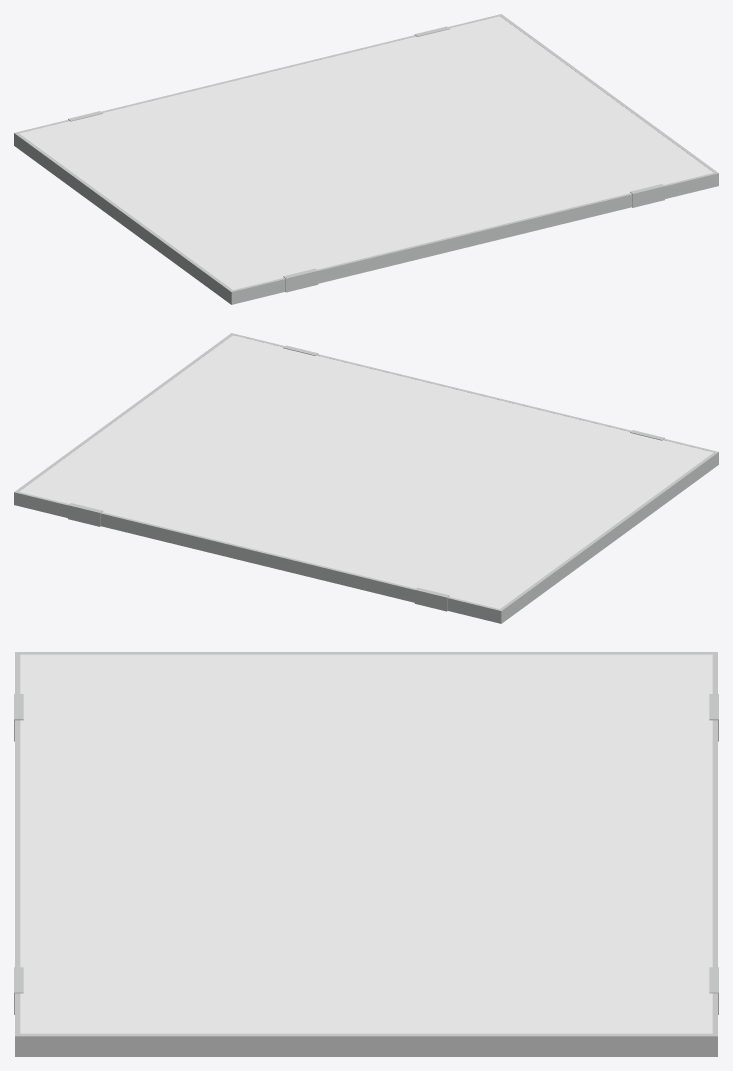
3 renders of one model, top to bottom at view 1: azimuth 30°, elevation 25°; view 2: azimuth 150°, elevation 25°; view 3: azimuth 270°, elevation 25°, orthographic. The views are drawn at different scales.
Visible parts, largest first — view 1: solar_panel_glass, solar_panel_frame; view 2: solar_panel_glass, solar_panel_frame; view 3: solar_panel_glass, solar_panel_frame.
Boxes of the visible parts, x1,y1,x2,y2 form: solar_panel_glass: [19, 16, 713, 289]; solar_panel_frame: [14, 14, 718, 304]; solar_panel_glass: [19, 335, 713, 608]; solar_panel_frame: [14, 333, 718, 623]; solar_panel_glass: [20, 654, 712, 1033]; solar_panel_frame: [14, 652, 718, 1056].
Bounding box in the file's own units: 2 × 0.0548 × 1.55.
2 materials, 2 textured.
